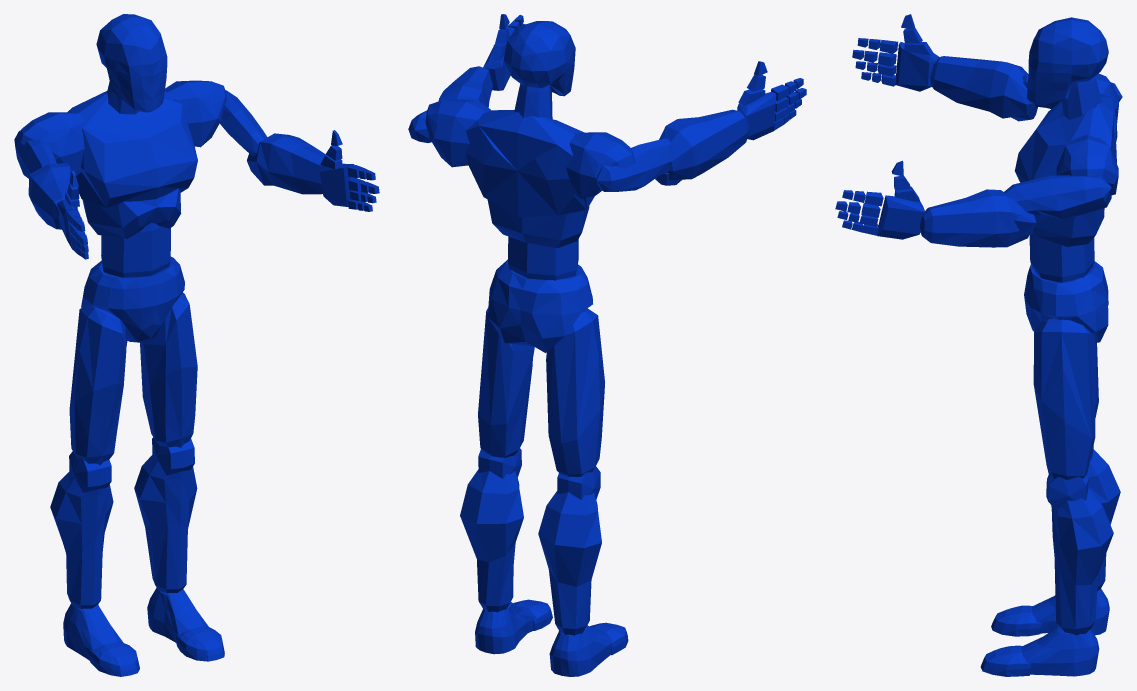
Rendered from robot.obj.
The picture shows the model from 3 angles, left to right: view 1: azimuth 30°, elevation 25°; view 2: azimuth 150°, elevation 25°; view 3: azimuth 270°, elevation 25°; orthographic projection.
Parts seen in each view (by area): view 1: Mesh_Chest_Hero1, Mesh_RuLeg_Hero1, Mesh_LuLeg_Hero1, Mesh_LlLeg_Hero1, Mesh_RlLeg_Hero1, Mesh_Head_Hero1, Mesh_Hips_Hero1, Mesh_LlArm_Hero1, Mesh_Waist_Hero1, Mesh_Ribs_Hero1, Mesh_Ldelt_Hero1, Mesh_Rdelt_Hero1 (+10 smaller); view 2: Mesh_Chest_Hero1, Mesh_RuLeg_Hero1, Mesh_RlLeg_Hero1, Mesh_Hips_Hero1, Mesh_LlLeg_Hero1, Mesh_LuLeg_Hero1, Mesh_RlArm_Hero1, Mesh_Head_Hero1, Mesh_Rdelt_Hero1, Mesh_Ldelt_Hero1, Mesh_Ribs_Hero1, Mesh_Waist_Hero1 (+11 smaller); view 3: Mesh_LuLeg_Hero1, Mesh_LlLeg_Hero1, Mesh_Head_Hero1, Mesh_LlArm_Hero1, Mesh_RlArm_Hero1, Mesh_Chest_Hero1, Mesh_Hips_Hero1, Mesh_LuArm_Hero1, Mesh_Lfoot_Hero1, Mesh_Waist_Hero1, Mesh_Ldelt_Hero1, Mesh_Ribs_Hero1 (+9 smaller).
Boxes of the visible parts, left/top/right/bottom form: Mesh_Chest_Hero1: left=67, top=91, right=197, bottom=208; Mesh_RuLeg_Hero1: left=69, top=305, right=127, bottom=465; Mesh_LuLeg_Hero1: left=140, top=292, right=197, bottom=447; Mesh_LlLeg_Hero1: left=134, top=453, right=197, bottom=593; Mesh_RlLeg_Hero1: left=50, top=471, right=113, bottom=608; Mesh_Head_Hero1: left=96, top=14, right=167, bottom=112; Mesh_Hips_Hero1: left=81, top=256, right=184, bottom=343; Mesh_LlArm_Hero1: left=247, top=133, right=326, bottom=194; Mesh_Waist_Hero1: left=101, top=222, right=170, bottom=277; Mesh_Ribs_Hero1: left=82, top=188, right=181, bottom=239; Mesh_Ldelt_Hero1: left=165, top=80, right=226, bottom=147; Mesh_Rdelt_Hero1: left=19, top=112, right=84, bottom=175; Mesh_Chest_Hero1: left=466, top=110, right=594, bottom=217; Mesh_RuLeg_Hero1: left=546, top=308, right=604, bottom=476; Mesh_RlLeg_Hero1: left=538, top=491, right=601, bottom=635; Mesh_Hips_Hero1: left=487, top=259, right=592, bottom=352; Mesh_LlLeg_Hero1: left=460, top=469, right=523, bottom=612; Mesh_LuLeg_Hero1: left=478, top=308, right=534, bottom=457; Mesh_RlArm_Hero1: left=659, top=109, right=749, bottom=180; Mesh_Head_Hero1: left=503, top=21, right=575, bottom=96; Mesh_Rdelt_Hero1: left=565, top=132, right=635, bottom=198; Mesh_Ldelt_Hero1: left=425, top=99, right=490, bottom=167; Mesh_Ribs_Hero1: left=487, top=200, right=589, bottom=248; Mesh_Waist_Hero1: left=508, top=236, right=578, bottom=280; Mesh_LuLeg_Hero1: left=1033, top=318, right=1095, bottom=479; Mesh_LlLeg_Hero1: left=1051, top=490, right=1113, bottom=635; Mesh_Head_Hero1: left=1027, top=17, right=1108, bottom=105; Mesh_LlArm_Hero1: left=920, top=189, right=1028, bottom=247; Mesh_RlArm_Hero1: left=930, top=56, right=1036, bottom=118; Mesh_Chest_Hero1: left=1015, top=94, right=1117, bottom=216; Mesh_Hips_Hero1: left=1024, top=261, right=1108, bottom=342; Mesh_LuArm_Hero1: left=1004, top=175, right=1111, bottom=219; Mesh_Lfoot_Hero1: left=1021, top=626, right=1099, bottom=676; Mesh_Waist_Hero1: left=1029, top=232, right=1094, bottom=282; Mesh_Ldelt_Hero1: left=1056, top=134, right=1118, bottom=195; Mesh_Ribs_Hero1: left=1032, top=208, right=1104, bottom=246.
Bounding box in the file's own units: 3.08 × 6.19 × 2.57.
